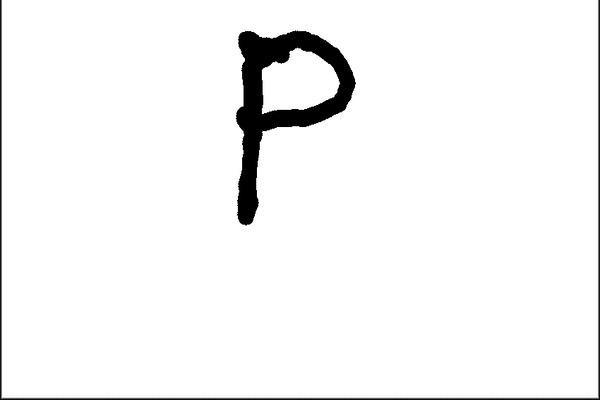P: (214, 13, 362, 241)
